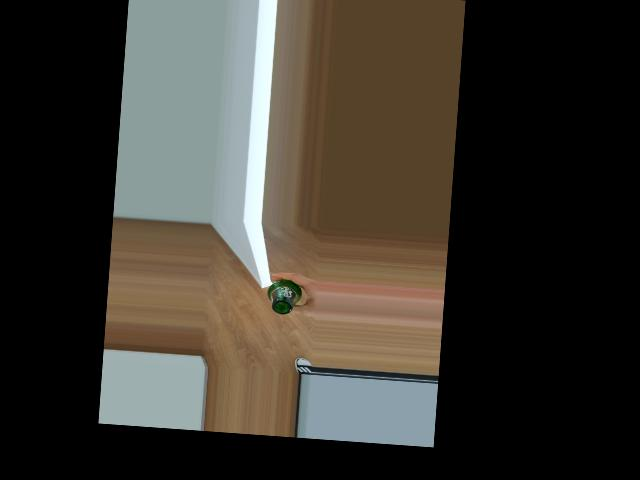beer: (265, 279, 303, 315)
